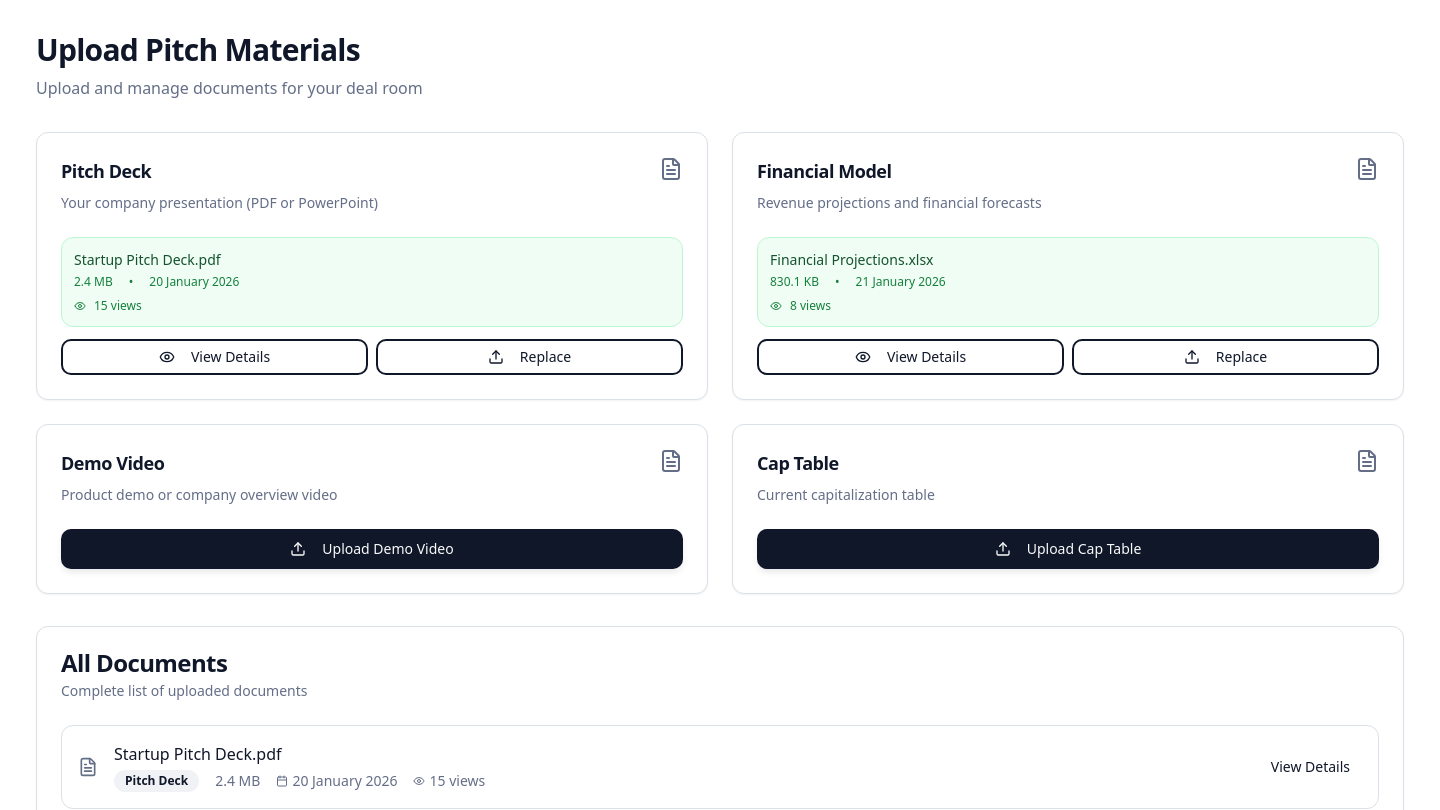
it: US-FOUNDER-005: Upload Pitch Deck and Documents › View Document Analytics › should display who viewed documents
This screenshot has width=1440, height=810.
Expected: the 1st text "Startup Pitch Deck.pdf" is shown, [74,250,221,269]
Click the 1st button "View Details". click: (214, 357)
box: [61,339,368,375]
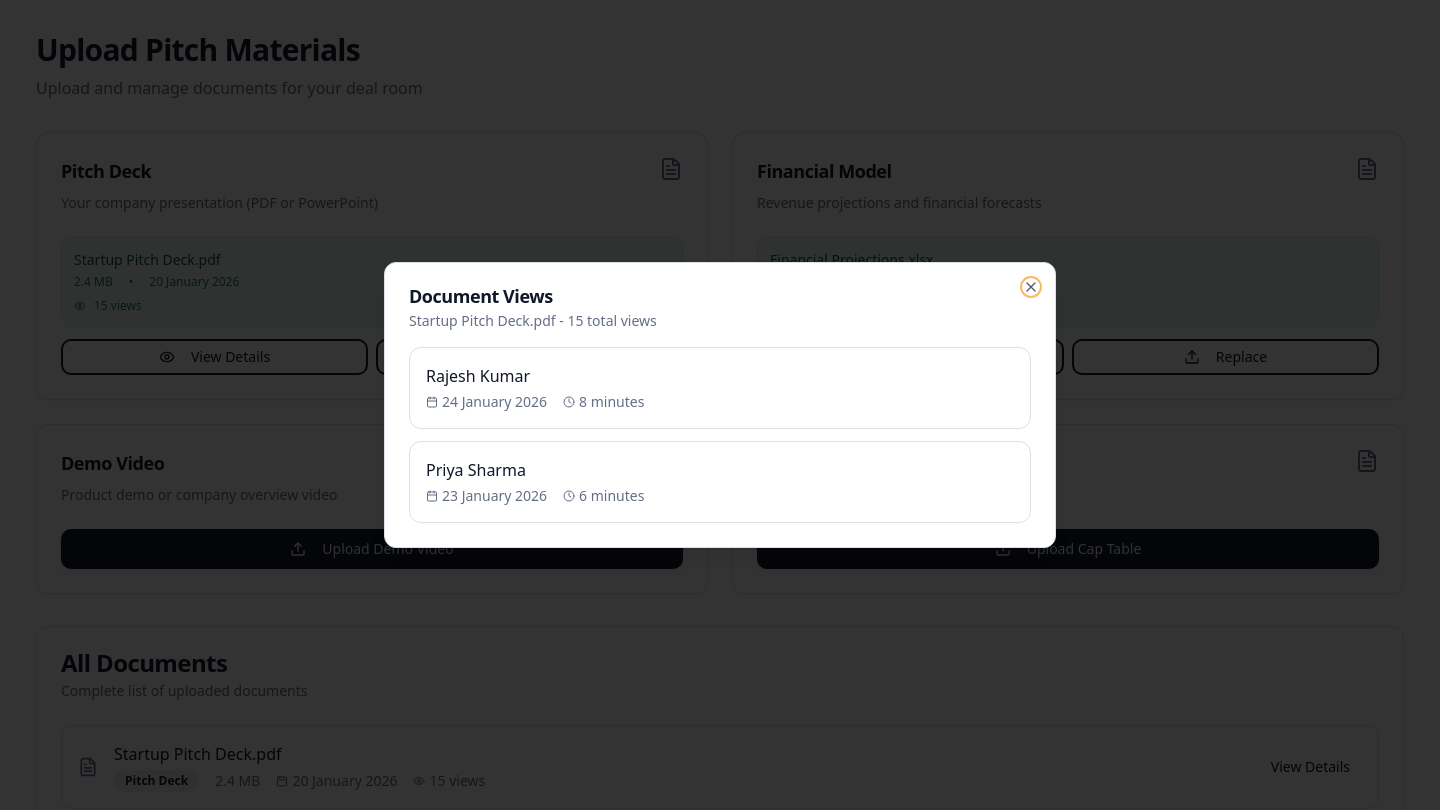
Expected: the text "Rajesh Kumar" is shown, [426,365,530,387]
Expected: the text "Priya Sharma" is shown, [426,459,526,481]
